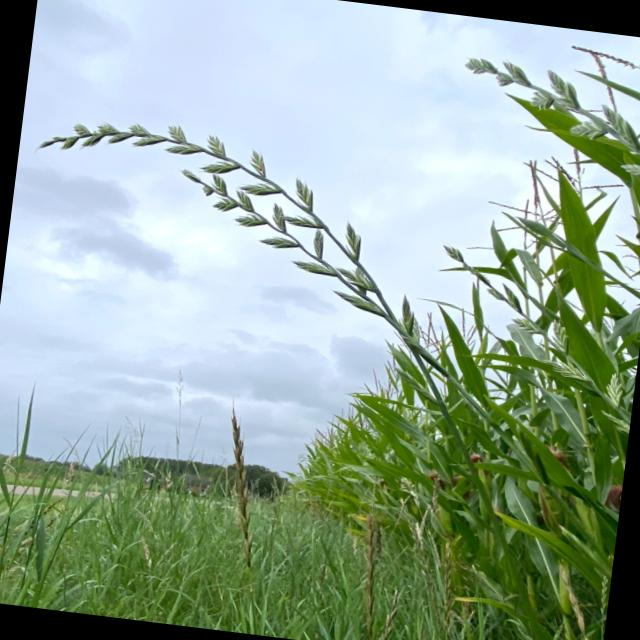Lolium: (24, 106, 382, 276), (432, 38, 640, 221), (170, 172, 412, 320), (432, 248, 586, 367), (208, 414, 275, 570), (348, 508, 392, 634), (422, 535, 467, 634)
